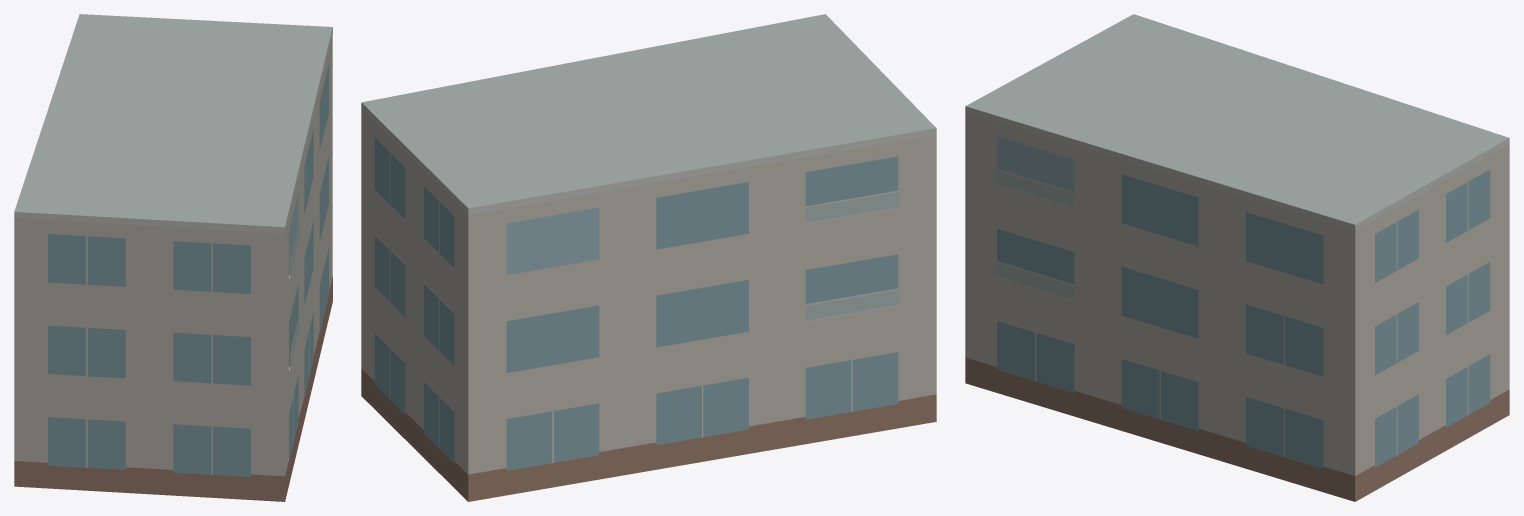
File: survey-upis-32892471.glb
The picture shows the model from 3 angles, left to right: view 1: azimuth 30°, elevation 25°; view 2: azimuth 150°, elevation 25°; view 3: azimuth 270°, elevation 25°; orthographic projection. The views are drawn at different scales.
Parts seen in each view (by area): view 1: survey-upis-32892471.tmp; view 2: survey-upis-32892471.tmp; view 3: survey-upis-32892471.tmp.
Part boxes in pixels (box(x1,y1,x2,y2)): survey-upis-32892471.tmp: box(14, 14, 332, 501); survey-upis-32892471.tmp: box(361, 14, 936, 501); survey-upis-32892471.tmp: box(965, 14, 1509, 501).
Bounding box in the file's own units: 17.31 × 10.6 × 18.88.
